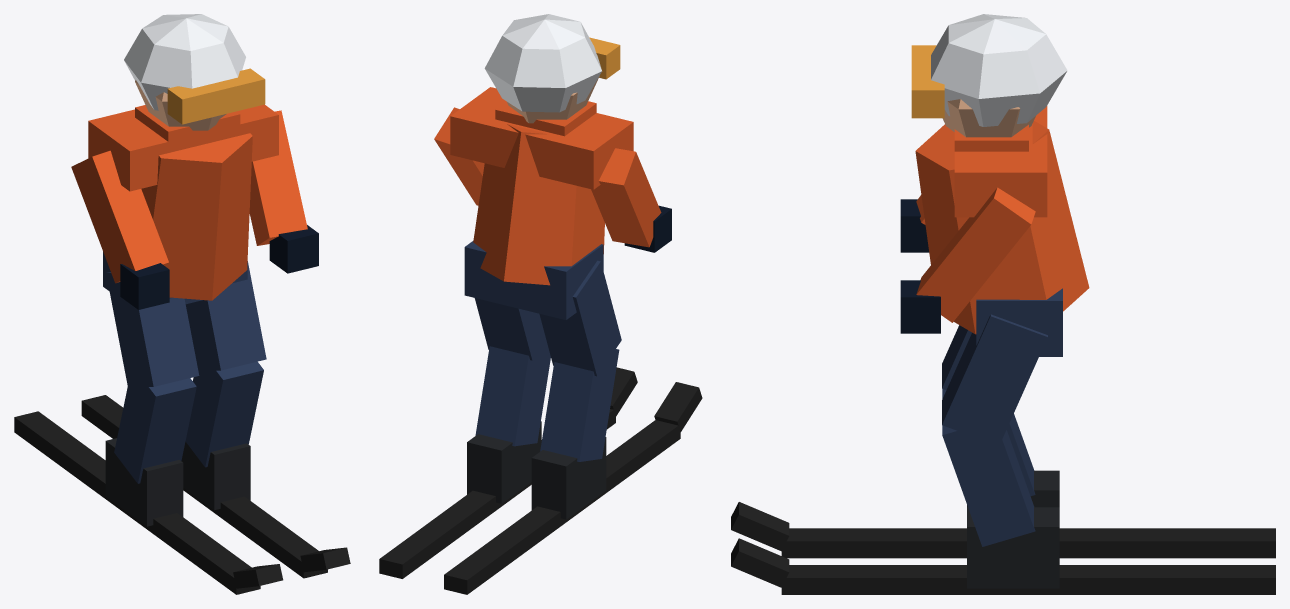
Rendered from skier-kid.glb.
3 views of the same model, side by side, from view 1: azimuth 30°, elevation 25°; view 2: azimuth 150°, elevation 25°; view 3: azimuth 270°, elevation 25° (orthographic). The views are drawn at different scales.
Visible parts, largest first — view 1: skier-kid; view 2: skier-kid; view 3: skier-kid.
Boxes of the visible parts, left/top/right/bottom form: skier-kid: left=14, top=14, right=350, bottom=594; skier-kid: left=379, top=14, right=702, bottom=594; skier-kid: left=731, top=14, right=1275, bottom=594.
Bounding box in the file's own units: 0.5422 × 1.3 × 1.16.
